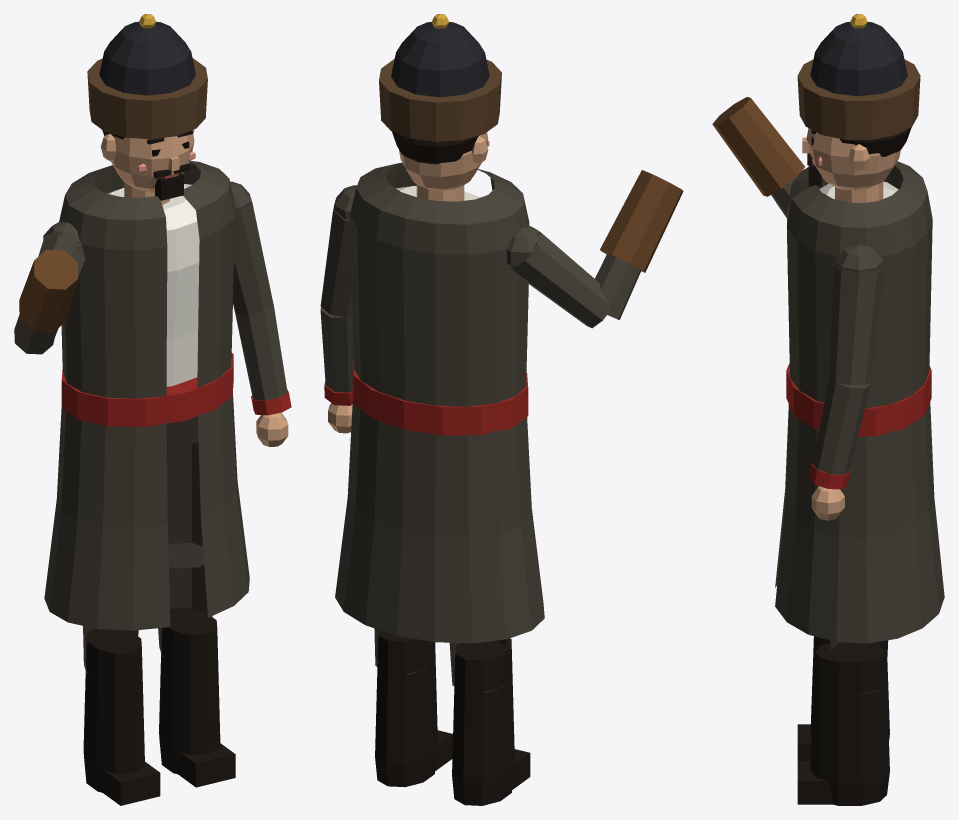
Rendered from NPC_Burkutchu.obj.
3 renders of one model, left to right at view 1: azimuth 30°, elevation 25°; view 2: azimuth 150°, elevation 25°; view 3: azimuth 270°, elevation 25°, orthographic. The views are drawn at different scales.
Parts seen in each view (by area): view 1: NPC_Burkutchu; view 2: NPC_Burkutchu; view 3: NPC_Burkutchu.
Boxes of the visible parts, x1=… form: NPC_Burkutchu: x1=14, y1=14, x2=291, y2=805; NPC_Burkutchu: x1=320, y1=14, x2=683, y2=805; NPC_Burkutchu: x1=712, y1=14, x2=944, y2=805.
Size of the model in its own units: 0.8005 by 1.91 by 0.529.
